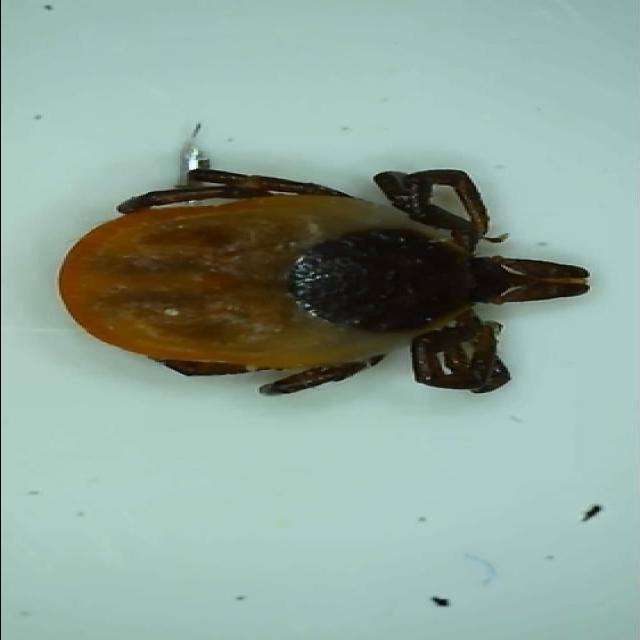Ixodes Ricinus-F-Fed: (55, 163, 592, 394)
